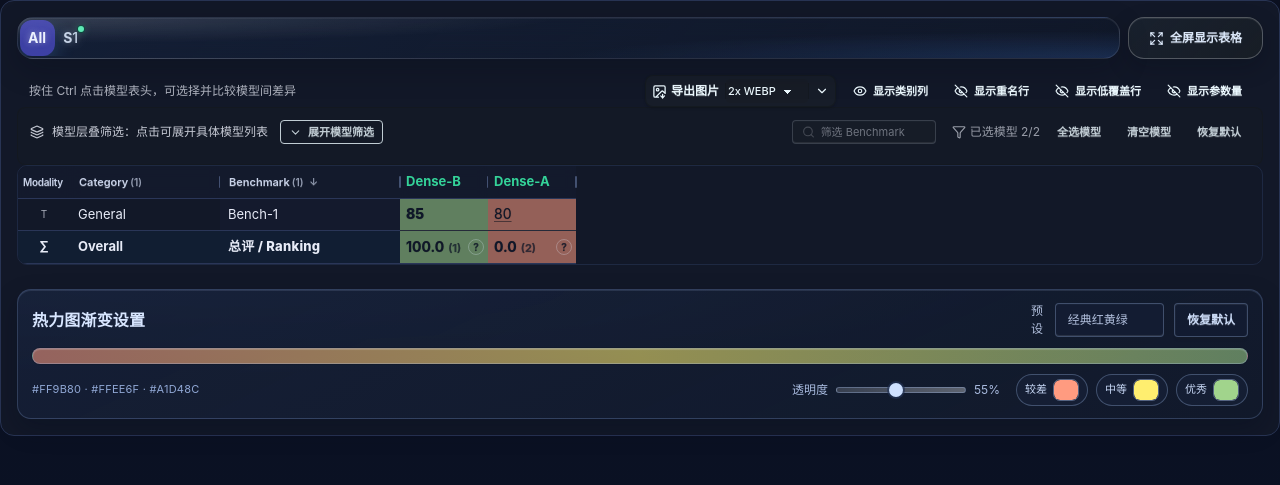
Test: BenchmarkMatrix 参数量空行隐藏集成测试 › 当前模型全部为稠密模型时，开启显示参数量自动隐藏 Activated % 行
Click the button "显示参数量" at (1204, 91), box top-left (1158, 79), bottom-right (1251, 103)
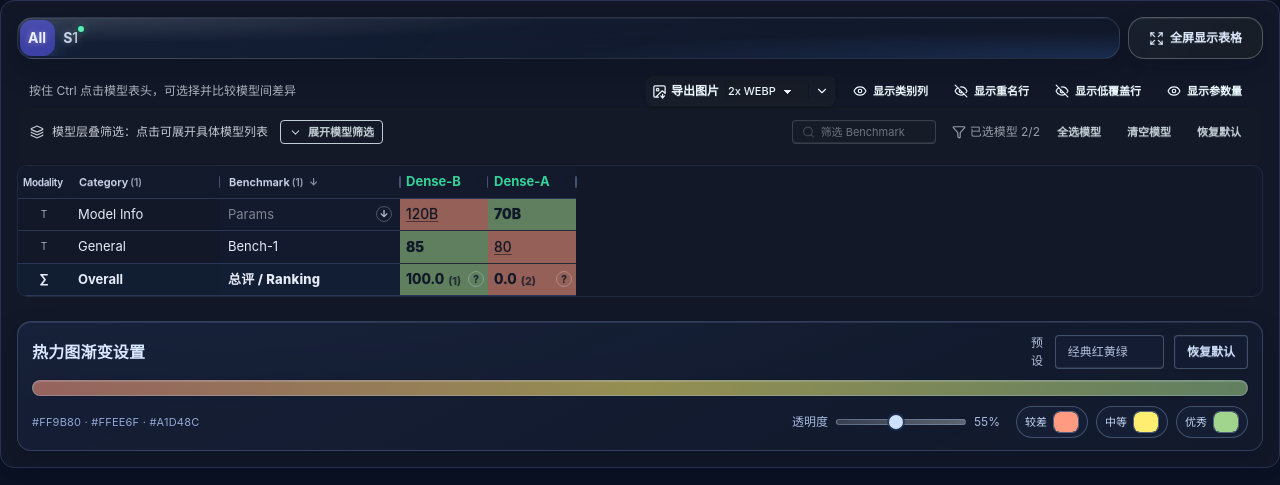
Check: the text "Params" is shown, box top-left (228, 206), bottom-right (274, 222)
